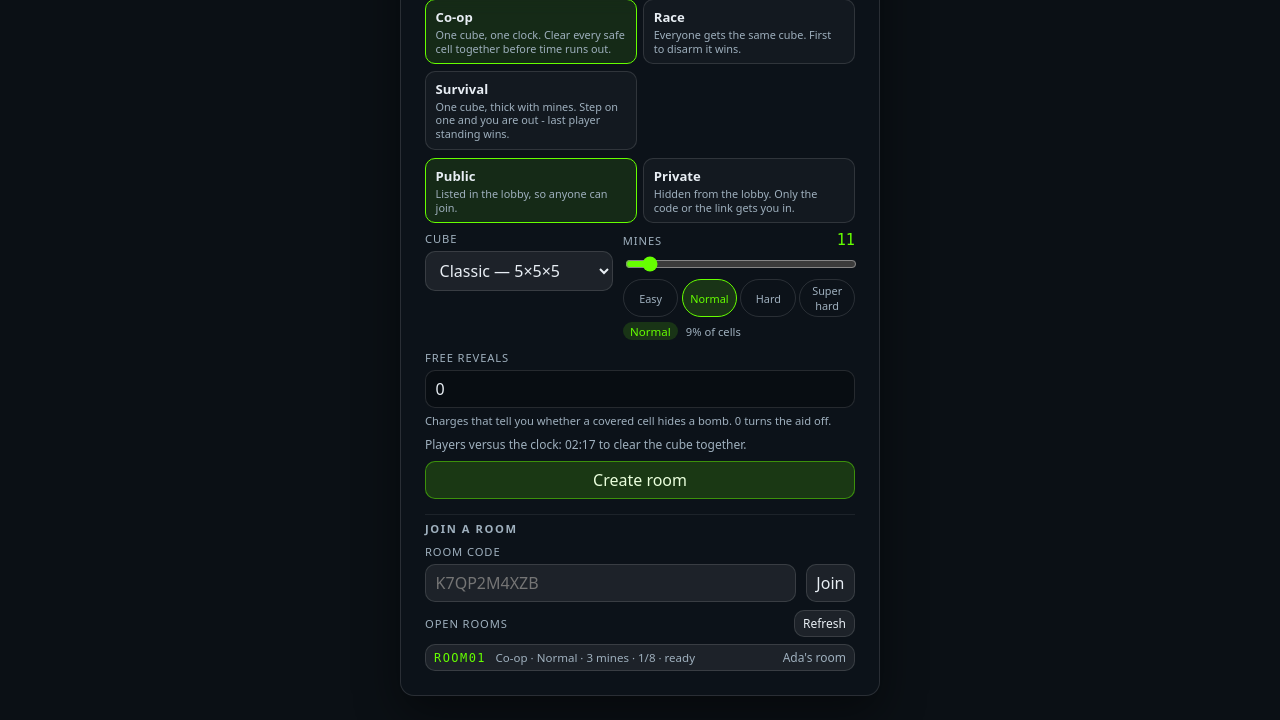
AppRoot › a reload of a room link reuses the seat the first join stored
The image size is (1280, 720).
(page scrolled)
Expected: the list with test id "welcome-rooms" is shown, [425,644,855,671]
Click the button with test id "welcome-create" at (640, 480), box [425,461,855,499]
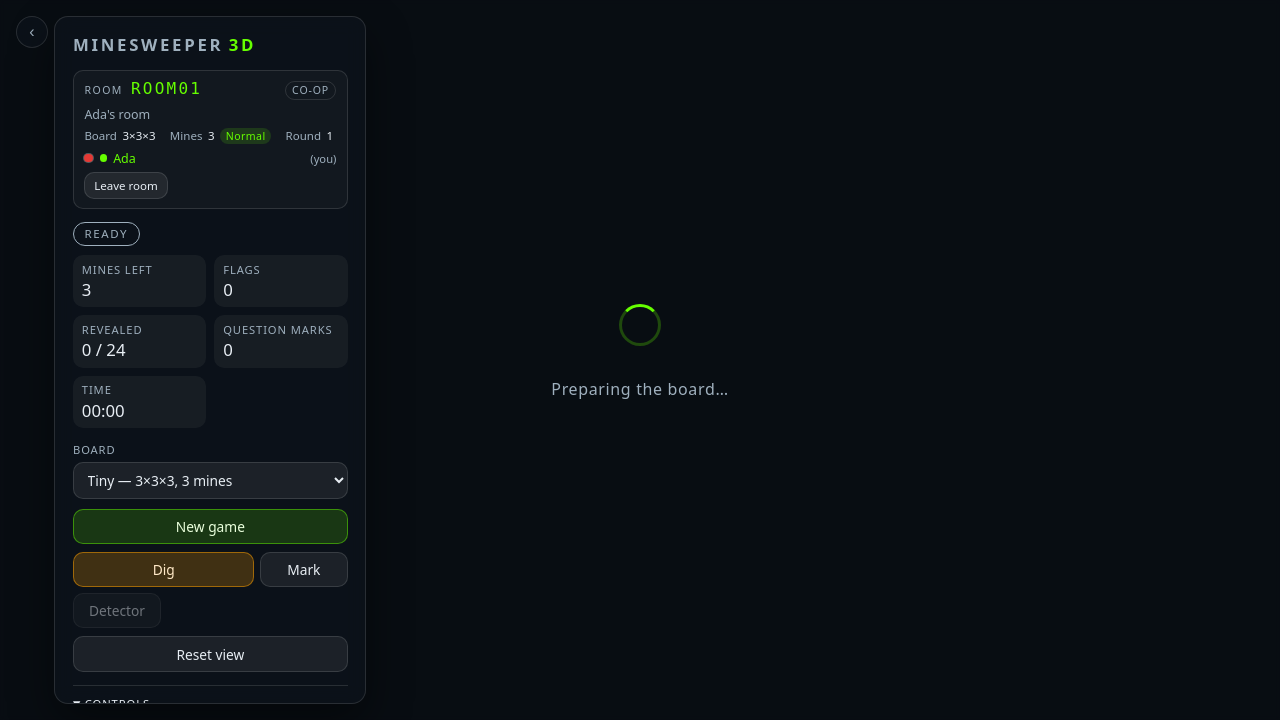
Expected: the element with test id "room-badge" is shown, [73,70,348,209]
